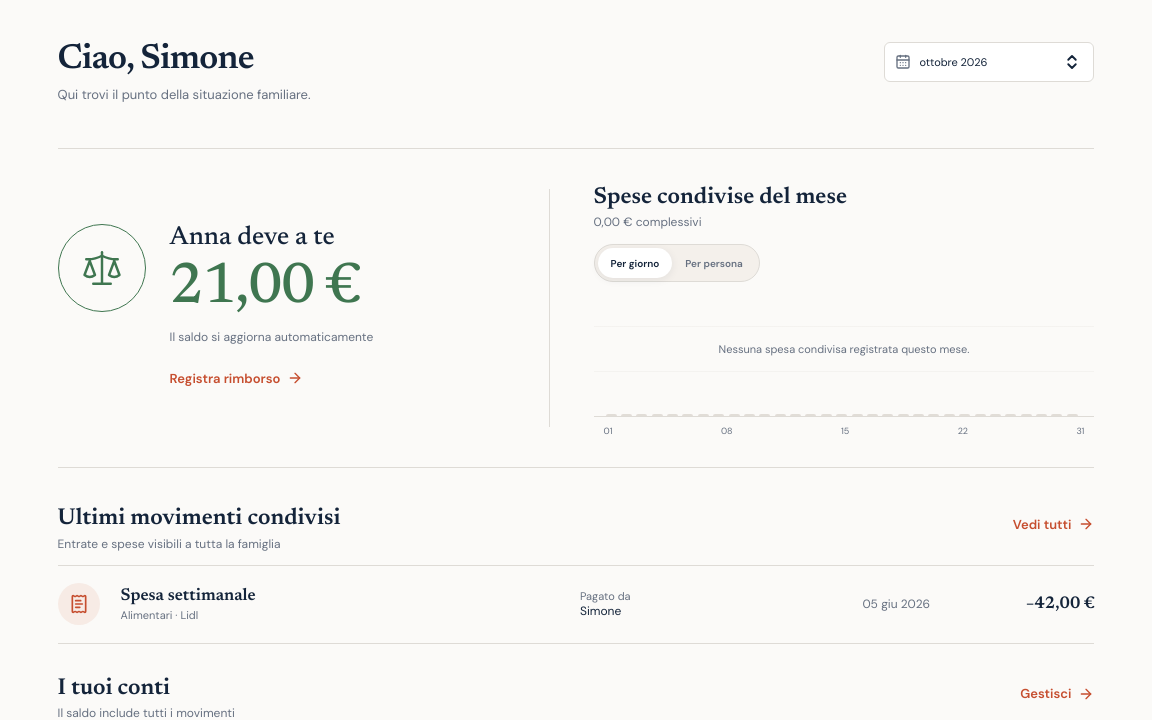
Test: Dashboard workspace selector › changes the month used by both shared-expense chart views
expect the element named "Mese del grafico condiviso" in the row of "Ciao," is shown: met, box [884,42,1094,82]
Select "giugno 2026" in the dropdown named "Mese del grafico condiviso" at (1001, 62), box [919,55,1083,69]
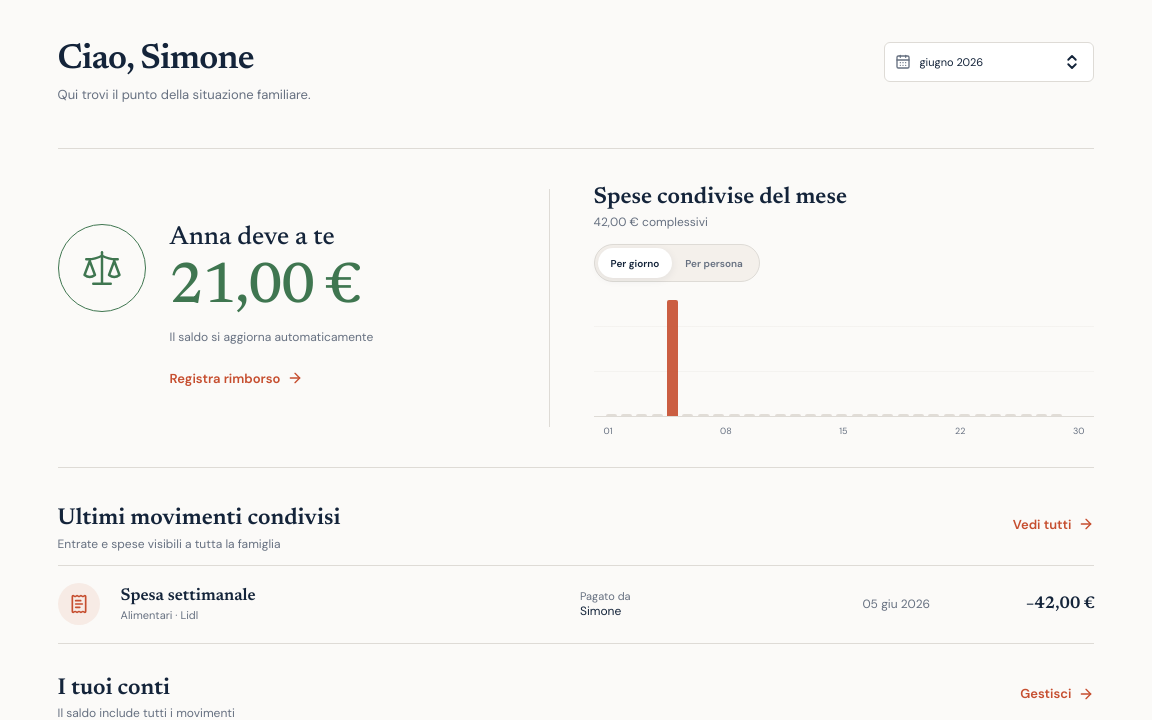
expect the picture named "05 giugno: 42,00" is shown: met, box [667,300,678,416]
Click the button "Per persona".
click(714, 263)  # box [672,248,756,278]
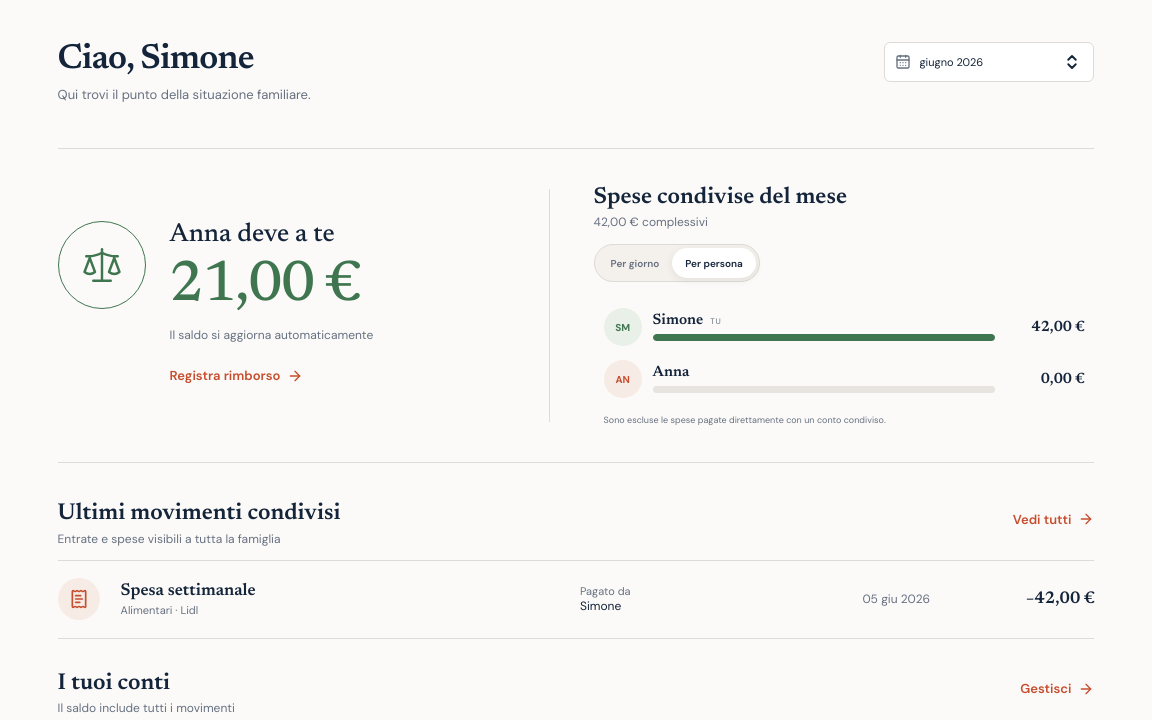
expect the picture named "Simone: 42,00" is shown: met, box [604,308,1084,346]
